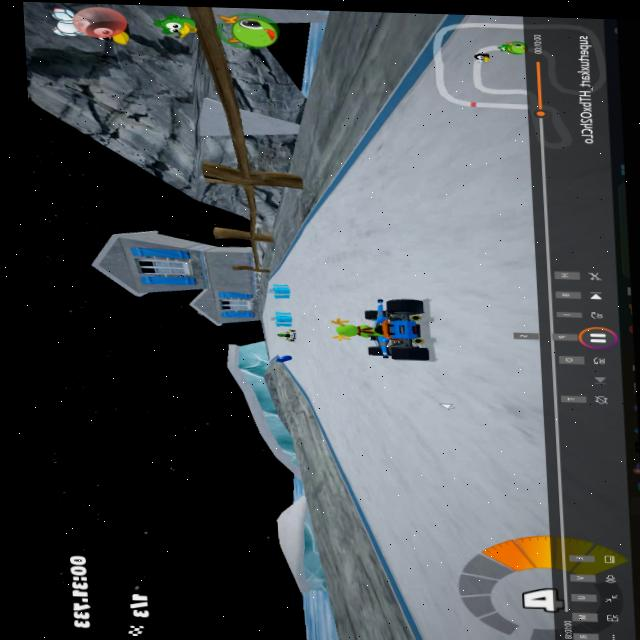bonus: (262, 281, 292, 300), (266, 307, 295, 326)
enemy_kart: (279, 327, 300, 342)
nitro: (275, 353, 292, 363)
player_kart: (327, 291, 428, 361)
